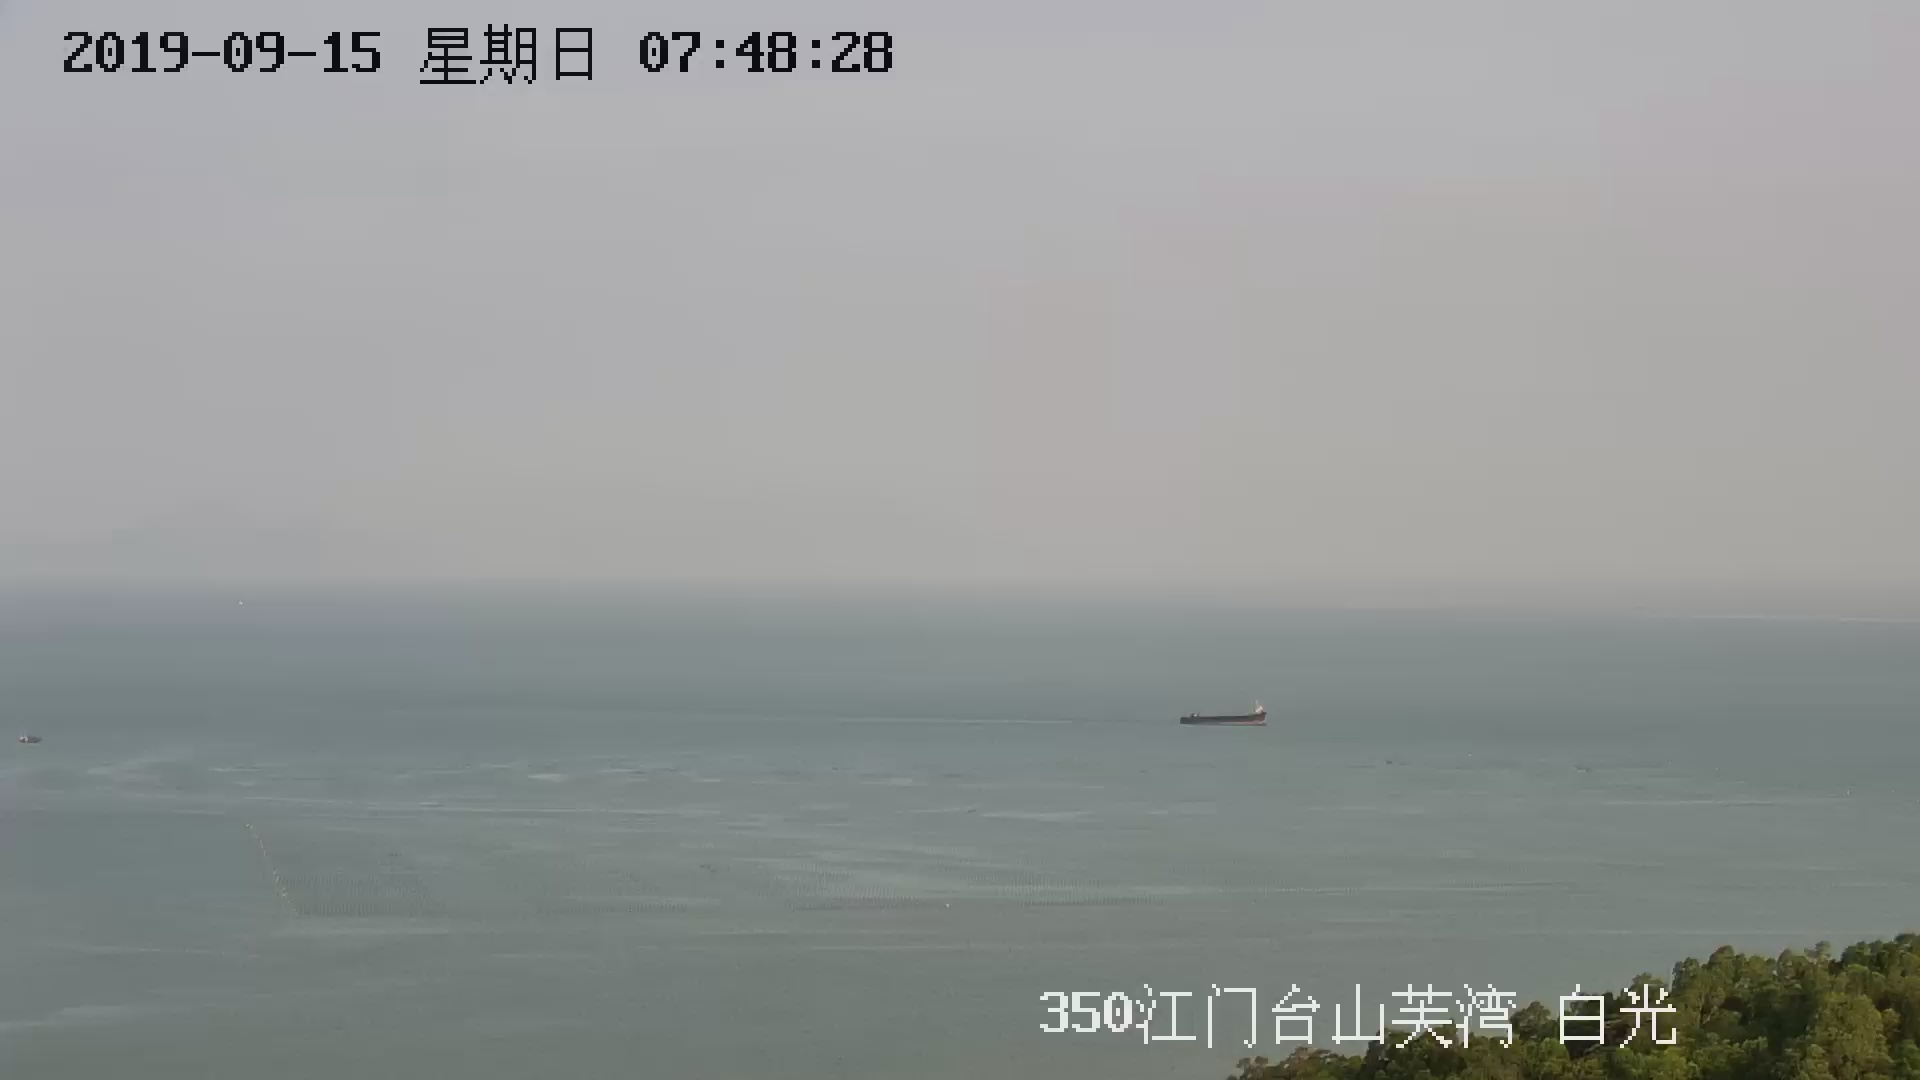ship: (1182, 705, 1267, 728)
